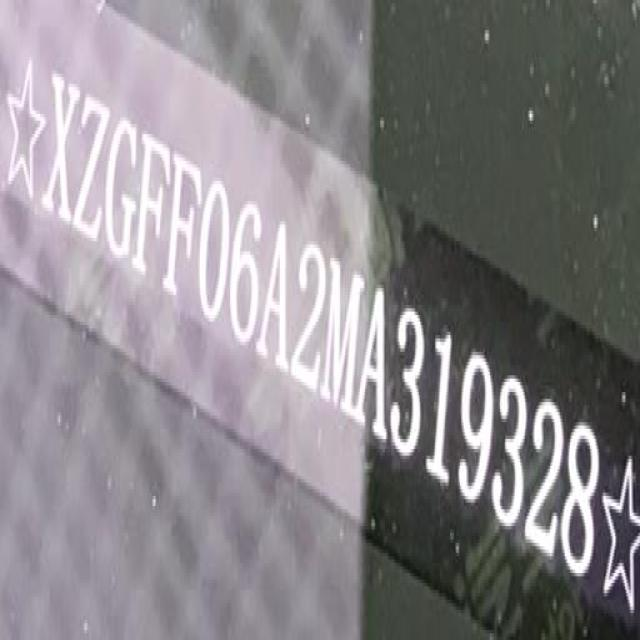0: (200, 171, 234, 340)
1: (426, 313, 458, 499)
2: (524, 383, 568, 564), (292, 225, 331, 403)
3: (492, 360, 531, 540), (392, 289, 429, 476)
6: (229, 188, 265, 360)
8: (560, 406, 603, 591)
9: (454, 341, 496, 520)
A: (352, 280, 388, 457), (259, 203, 292, 378)
F: (165, 139, 203, 317), (137, 126, 172, 288)
G: (106, 108, 140, 271)
M: (326, 251, 376, 438)
X: (40, 67, 79, 235)
Z: (75, 86, 110, 258)
